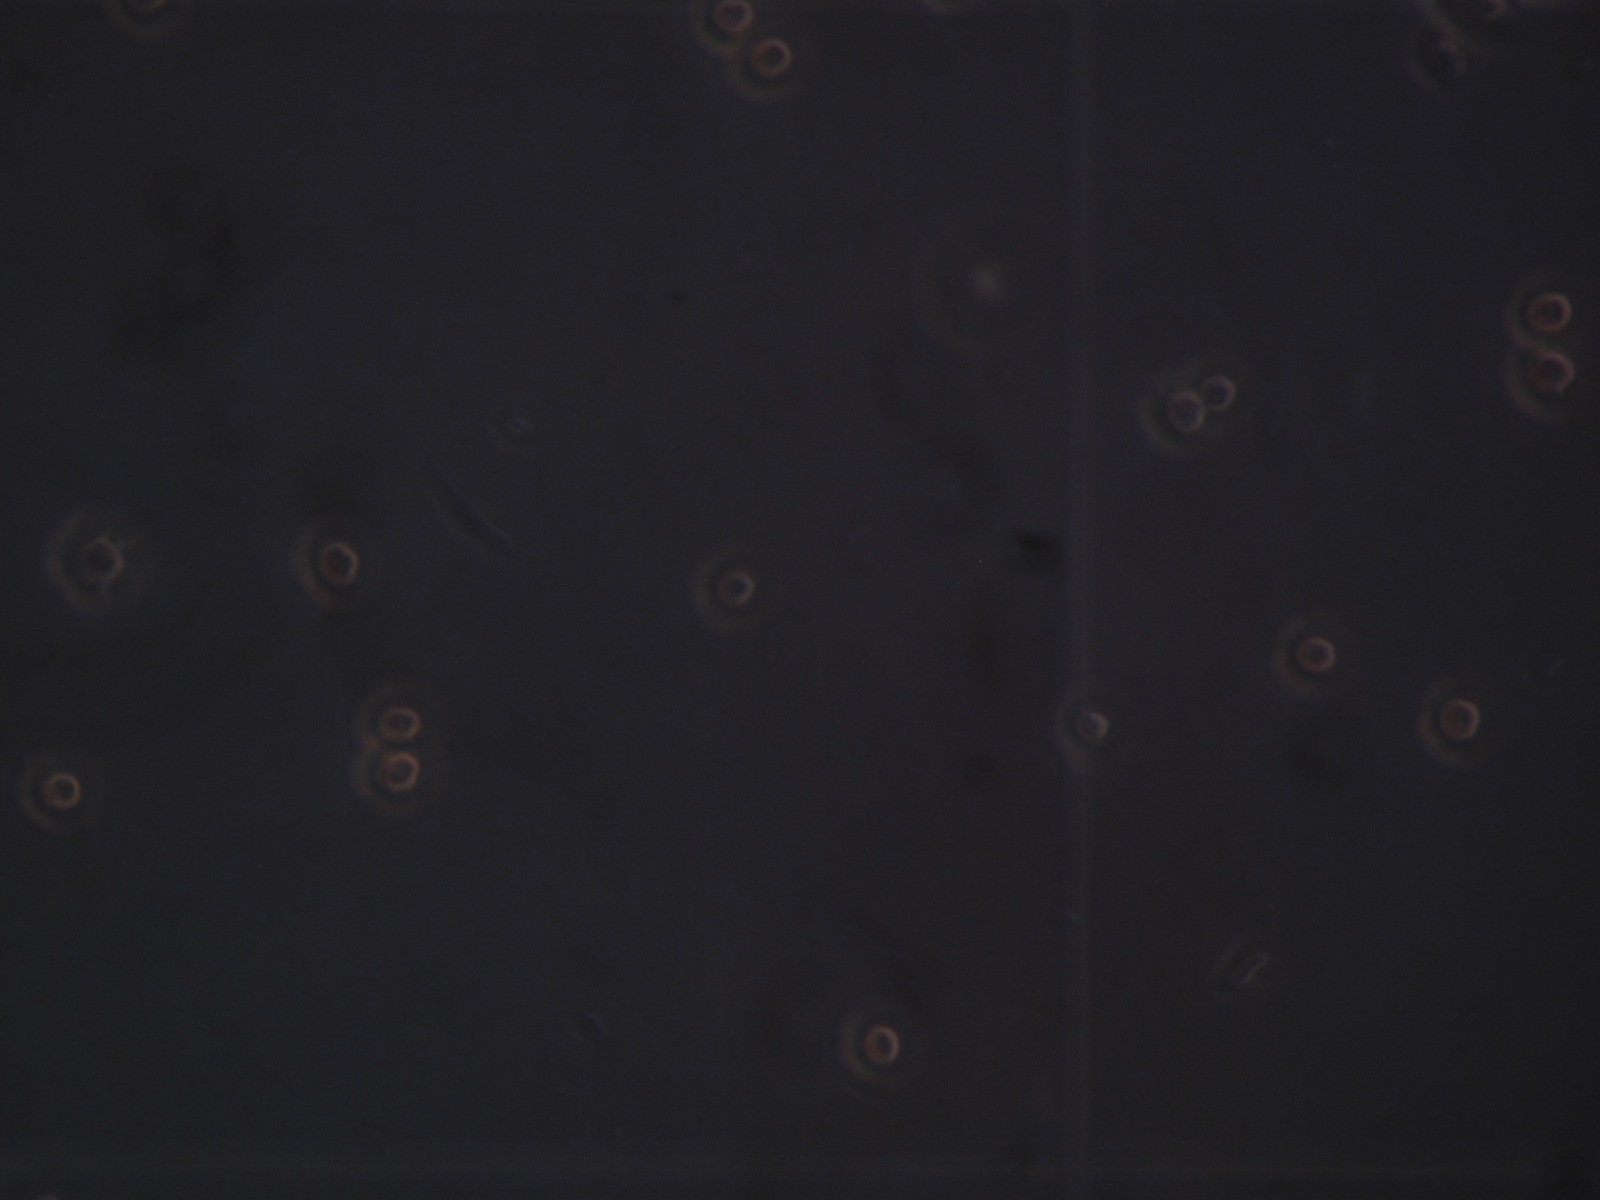hemo: (45, 513, 123, 609), (292, 526, 359, 610), (1503, 345, 1575, 424), (1136, 379, 1207, 458), (1417, 679, 1480, 766), (692, 550, 757, 633), (1504, 274, 1572, 349), (1271, 619, 1335, 698), (19, 754, 81, 832), (351, 745, 420, 816), (839, 1010, 901, 1083), (726, 37, 794, 101), (355, 684, 422, 747), (1053, 692, 1109, 761), (690, 1, 755, 55), (1194, 355, 1238, 431)
